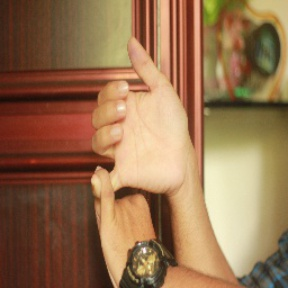S: (78, 34, 194, 280)
